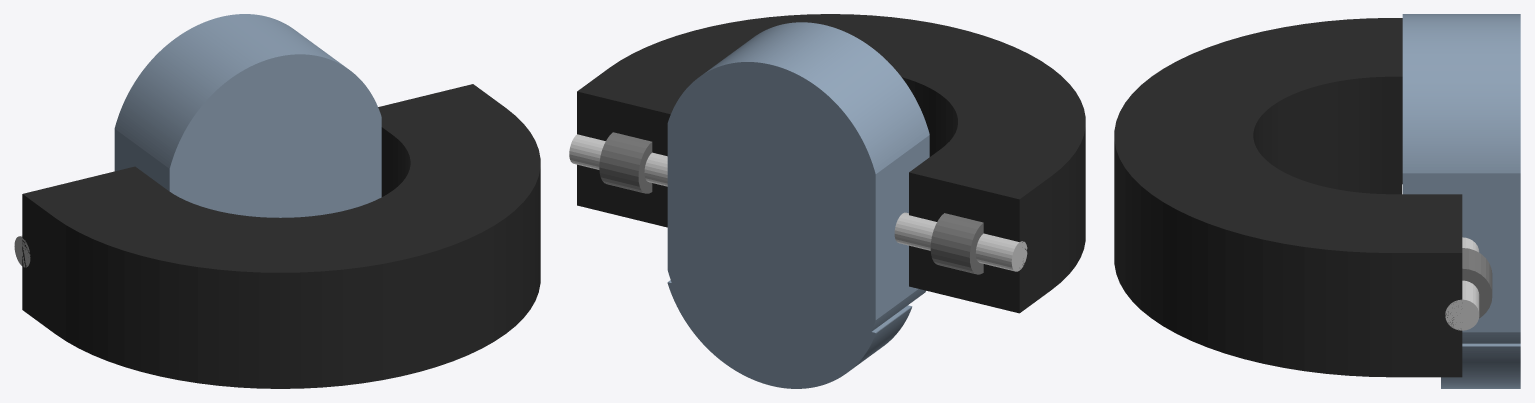
The model's file is PARKFNB_V2_RevF_3D_arch90.obj.
The picture shows the model from 3 angles, left to right: view 1: azimuth 30°, elevation 25°; view 2: azimuth 150°, elevation 25°; view 3: azimuth 270°, elevation 25°; orthographic projection. The views are drawn at different scales.
Visible parts, largest first — view 1: tyre, steel_box_main; view 2: steel_box_main, tyre, steel_box_step, arch_bracket, shaft; view 3: tyre, steel_box_main, steel_box_step, shaft, arch_bracket.
Boxes of the visible parts, box(x1,y1,x2,y2) form: tyre: box(22, 84, 540, 388); steel_box_main: box(114, 14, 381, 217); steel_box_main: box(667, 22, 929, 331); tyre: box(577, 14, 1085, 313); steel_box_step: box(667, 280, 912, 388); arch_bracket: box(599, 132, 983, 274); shaft: box(569, 134, 1027, 271); tyre: box(1114, 18, 1462, 377); steel_box_main: box(1402, 14, 1520, 343); steel_box_step: box(1441, 343, 1520, 388); shaft: box(1445, 237, 1479, 330); arch_bracket: box(1462, 248, 1492, 318).
Bounding box in the file's own units: 406 × 281 × 296.
